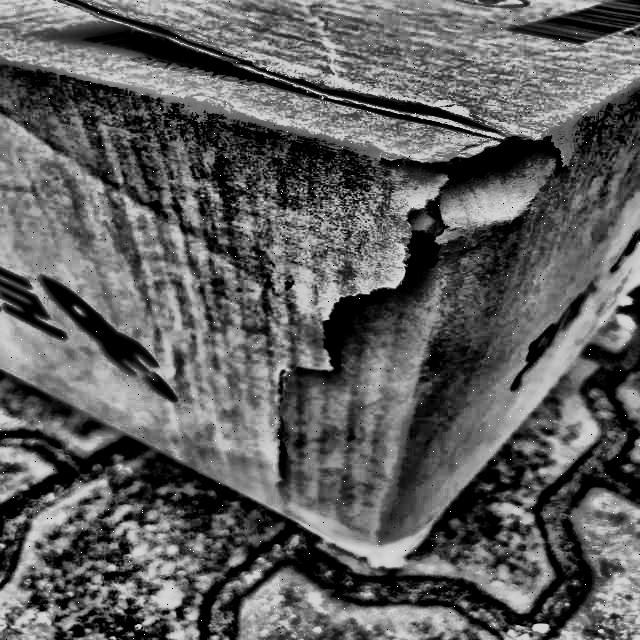box: (1, 1, 638, 575)
hole: (394, 134, 553, 223)
